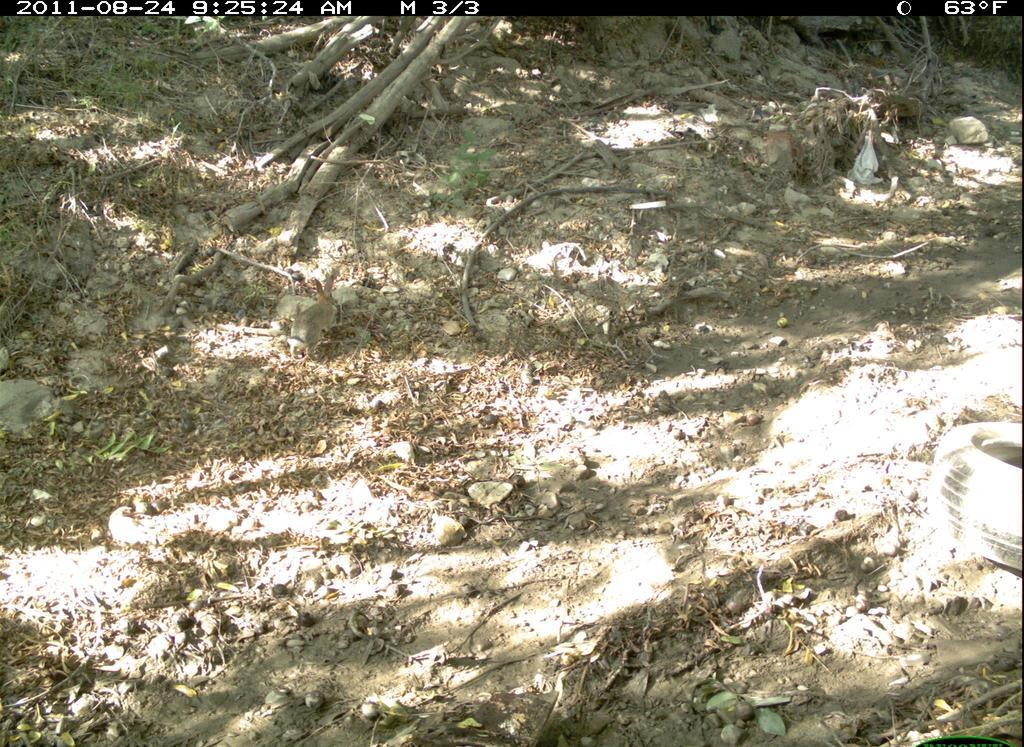rabbit: (283, 271, 356, 360)
